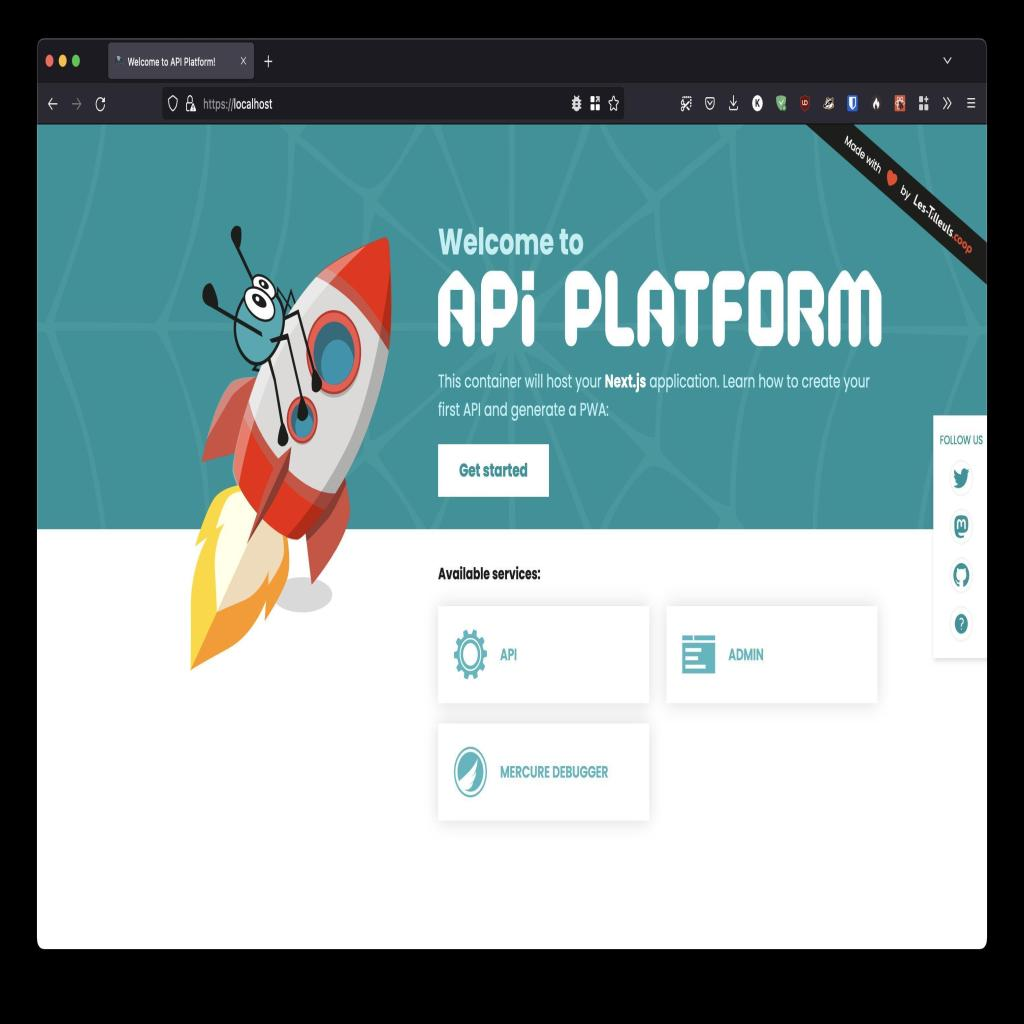button: (439, 608, 651, 705), (438, 723, 648, 818), (666, 609, 879, 701), (437, 444, 549, 496)
icon: (946, 553, 977, 601), (945, 506, 978, 548), (947, 457, 977, 501), (948, 605, 978, 647)
